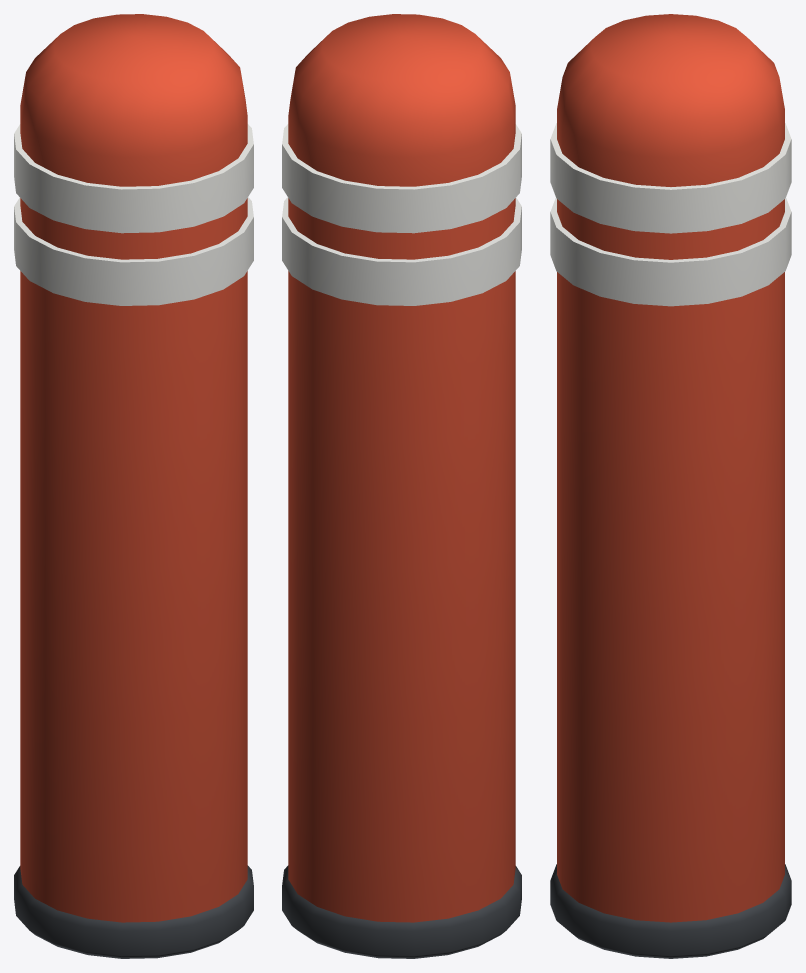
File: BollardCover_01.glb
3 views of the same model, side by side, from view 1: azimuth 30°, elevation 25°; view 2: azimuth 150°, elevation 25°; view 3: azimuth 270°, elevation 25° (orthographic).
Visible parts, largest first — view 1: SM_BollardCover_01; view 2: SM_BollardCover_01; view 3: SM_BollardCover_01.
Part boxes in pixels (<box>): SM_BollardCover_01: <box>14,14,253,958</box>; SM_BollardCover_01: <box>282,14,521,958</box>; SM_BollardCover_01: <box>550,14,791,958</box>.
Bounding box in the file's own units: 0.3 × 1.2 × 0.3.
1 material, 1 textured.
